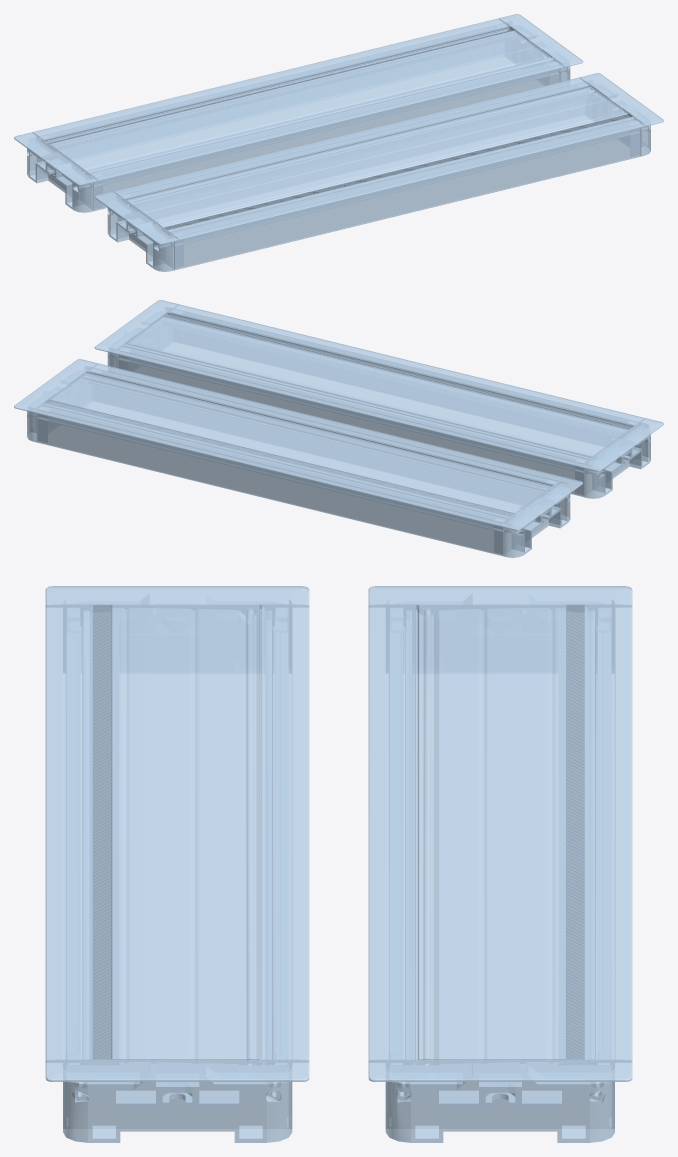
The model's file is LKAC250000_DOBLE.glb.
3 renders of one model, top to bottom at view 1: azimuth 30°, elevation 25°; view 2: azimuth 150°, elevation 25°; view 3: azimuth 270°, elevation 25°, orthographic. The views are drawn at different scales.
Visible parts, largest first — view 1: 19, 18, 12, 16, 14, 15, 11, 20, 4, 17, 13, 3; view 2: 14, 12, 18, 15, 19, 16, 20, 11, 3, 13, 17, 4; view 3: 12, 18, 14, 19, 15, 16, 17, 13, 3, 4, 11, 20.
Boxes of the visible parts, bbox=[...] form: 19: bbox=[167, 116, 645, 270]; 18: bbox=[126, 86, 628, 227]; 12: bbox=[49, 30, 551, 172]; 16: bbox=[86, 57, 564, 210]; 14: bbox=[33, 18, 510, 161]; 15: bbox=[113, 77, 591, 220]; 11: bbox=[94, 191, 178, 271]; 20: bbox=[14, 132, 98, 212]; 4: bbox=[164, 115, 628, 230]; 17: bbox=[580, 73, 663, 156]; 13: bbox=[499, 14, 583, 81]; 3: bbox=[47, 29, 510, 143]; 14: bbox=[32, 402, 510, 556]; 12: bbox=[49, 372, 551, 513]; 18: bbox=[126, 316, 628, 458]; 15: bbox=[113, 343, 591, 497]; 19: bbox=[167, 304, 644, 447]; 16: bbox=[86, 363, 564, 506]; 20: bbox=[499, 477, 583, 557]; 11: bbox=[579, 418, 663, 498]; 3: bbox=[49, 401, 513, 516]; 13: bbox=[14, 359, 97, 442]; 17: bbox=[94, 300, 178, 367]; 4: bbox=[167, 315, 630, 429]; 12: bbox=[416, 604, 566, 1059]; 18: bbox=[111, 604, 261, 1059]; 14: bbox=[584, 604, 632, 1060]; 19: bbox=[45, 604, 93, 1060]; 15: bbox=[262, 604, 309, 1060]; 16: bbox=[368, 604, 415, 1060]; 17: bbox=[45, 1058, 309, 1142]; 13: bbox=[368, 1058, 632, 1142]; 3: bbox=[566, 611, 584, 1059]; 4: bbox=[93, 611, 111, 1059]; 11: bbox=[45, 586, 309, 673]; 20: bbox=[368, 586, 632, 673].
Size of the model in its own units: 0.512 by 0.0335 by 0.257.
